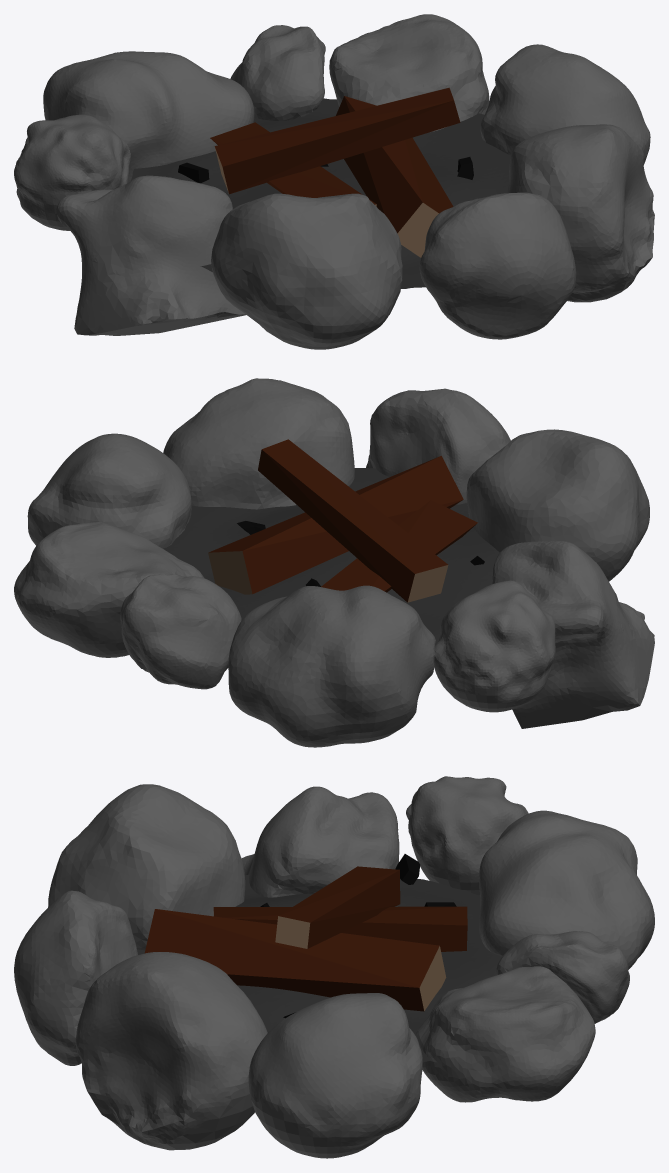
File: Campfire.fbx
The picture shows the model from 3 angles, top to bottom: view 1: azimuth 30°, elevation 25°; view 2: azimuth 150°, elevation 25°; view 3: azimuth 270°, elevation 25°; orthographic projection. The views are drawn at different scales.
Visible parts, largest first — view 1: Sphere; view 2: Sphere; view 3: Sphere.
Part boxes in pixels (<box>): Sphere: <box>14,14,654,349</box>; Sphere: <box>14,378,654,747</box>; Sphere: <box>14,776,654,1158</box>.
Bounding box in the file's own units: 81.88 × 27.65 × 76.46.
